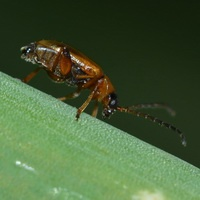insect: (20, 40, 186, 145)
